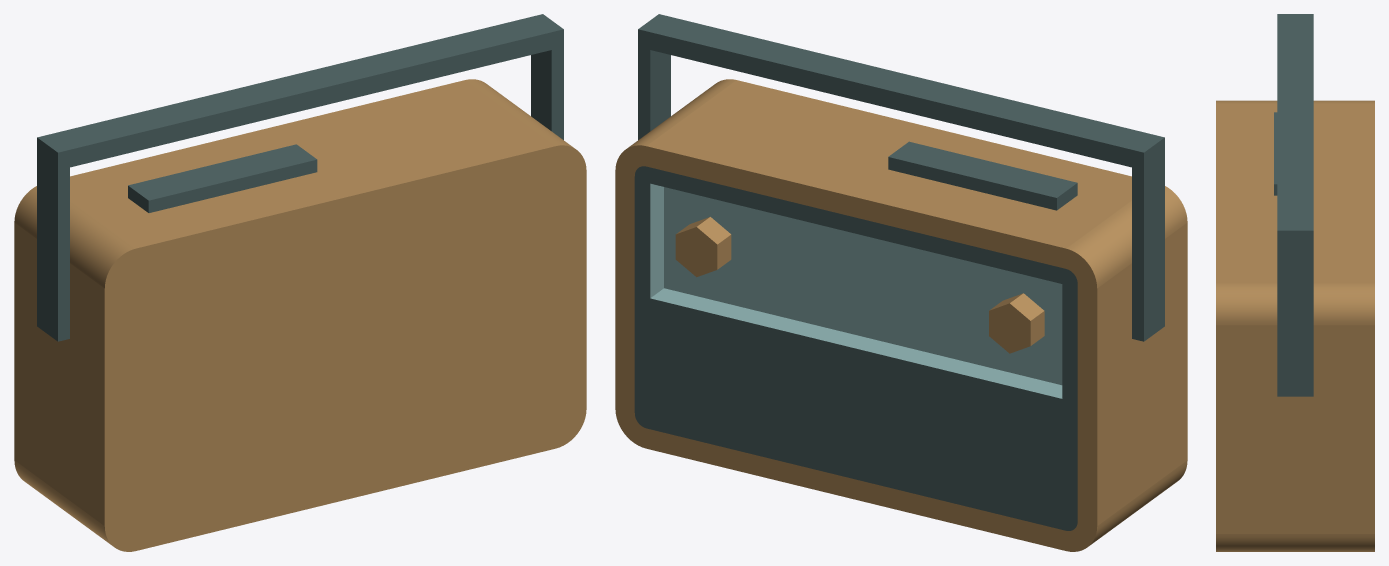
Rendered from radio.glb.
The picture shows the model from 3 angles, left to right: view 1: azimuth 30°, elevation 25°; view 2: azimuth 150°, elevation 25°; view 3: azimuth 270°, elevation 25°; orthographic projection. The views are drawn at different scales.
Parts seen in each view (by area): view 1: radio; view 2: radio; view 3: radio.
Boxes of the visible parts, x1=… form: radio: x1=14, y1=14, x2=586, y2=551; radio: x1=615, y1=14, x2=1187, y2=551; radio: x1=1216, y1=14, x2=1374, y2=551.
Bounding box in the file's own units: 0.63 × 0.4564 × 0.195.
